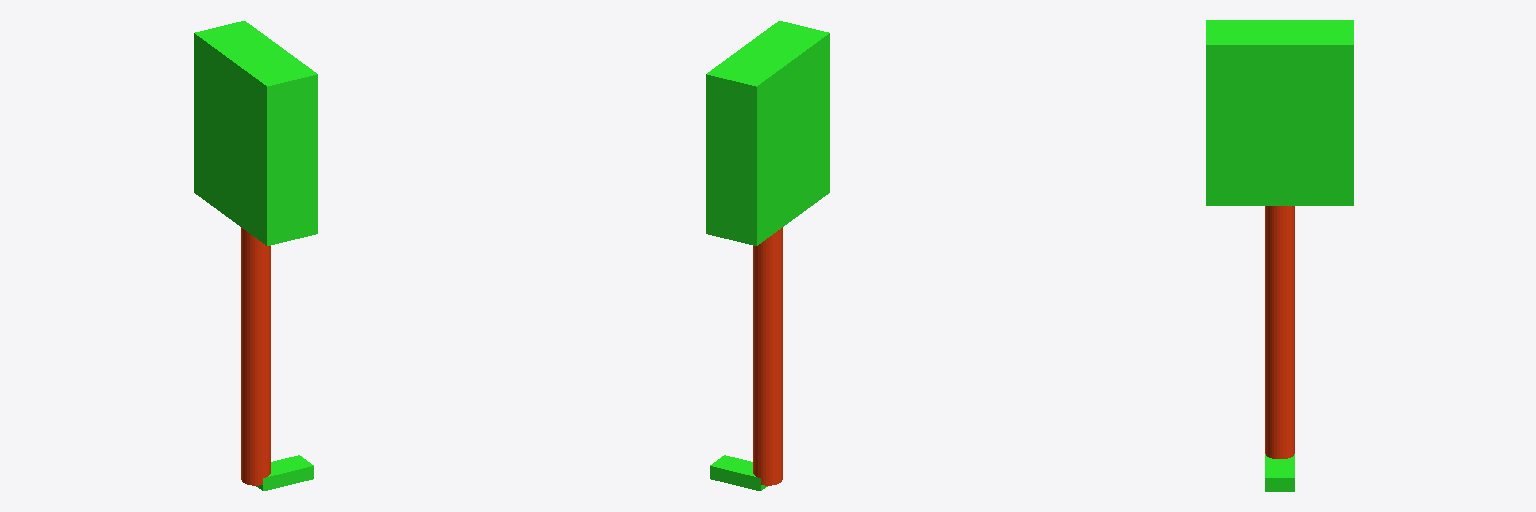
URDF robot description (biped):
<?xml version="1.0"?>
<robot name="biped">

    <!-- Define the body parameters -->
    <link name="base_link">
        <visual>
            <origin xyz="0 0 0" rpy="0 0 0"/>
            <geometry>
                <box size="0.2 0.5 0.6" />
            </geometry>
            <material name="green">
                <color rgba="0.2 1 0.2 1"/>
            </material>
        </visual>
        <collision>
            <origin xyz="0 0 0" rpy="0 0 0"/>
            <geometry>
                <box size="0.2 0.5 0.6" />
            </geometry>
        </collision>
        <inertial>
            <origin xyz="0 0 0" rpy="0 0 0"/>
            <mass value="0.001" />
            <inertia ixx="2.26" ixy="0.0" ixz="0.0" iyy="6.26" iyz="0.0" izz="8.5" />
        </inertial>
    </link>

    <joint name="toss_joint_1" type="revolute"> 
        <origin xyz="0 0 -0.3" rpy="0 0 0"/>
        <parent link="base_link"/>
        <child link="thigh_link_1"/>
        <axis xyz="0 -1 0"/>
        <limit lower="-1.047" upper="1.571" velocity="100" effort="100"/> 
    </joint>

    <link name="thigh_link_1">
        <visual>
            <origin xyz="0 0 -0.25" rpy="0 0 0"/>
            <geometry>                
                <cylinder length="0.5" radius="0.05" />
            </geometry>
            <material name="orange">
                <color rgba="1 0.3 0.1 1"/>
            </material>
        </visual>
        <collision>
            <origin xyz="0 0 -0.25" rpy="0 0 0"/>
            <geometry>
                <cylinder length="0.5" radius="0.05" />
            </geometry>
        </collision>
        <inertial>
            <origin xyz="0 0 -0.25" rpy="0 0 0"/>
            <mass value="10.0" />
            <inertia ixx="0.021875" ixy="0.0" ixz="0.0" iyy="0.021875" iyz="0.0" izz="0.0125" />
        </inertial>
    </link>

    <joint name="toss_joint_2" type="revolute"> 
        <origin xyz="0 0 -0.3" rpy="0 0 0"/>
        <parent link="base_link"/>
        <child link="thigh_link_2"/>
        <axis xyz="0 -1 0"/>
        <limit lower="-1.047" upper="1.571" velocity="100" effort="100"/> 
    </joint>

    <link name="thigh_link_2">
        <visual>
            <origin xyz="0 0 -0.25" rpy="0 0 0"/>
            <geometry>                
                <cylinder length="0.5" radius="0.05" />
            </geometry>
            <material name="blue">
                <color rgba="1 0.3 0.1 1"/>
            </material>
        </visual>
        <collision>
            <origin xyz="0 0 -0.25" rpy="0 0 0"/>
            <geometry>
                <cylinder length="0.5" radius="0.05" />
            </geometry>
        </collision>
        <inertial>
            <origin xyz="0 0 -0.25" rpy="0 0 0"/>
            <mass value="10.0" />
            <inertia ixx="0.021875" ixy="0.0" ixz="0.0" iyy="0.021875" iyz="0.0" izz="0.0125" />
        </inertial>
    </link>

    <joint name="knee_joint_1" type="revolute"> 
        <origin xyz="0 0 -0.5" rpy="0 0 0"/>
        <parent link="thigh_link_1"/>
        <child link="calf_link_1"/>
        <axis xyz="0 -1 0"/>
        <limit lower="-1.571" upper="0" velocity="100" effort="100"/> 
    </joint>

    <link name="calf_link_1">
        <visual>
            <origin xyz="0 0 -0.25" rpy="0 0 0"/>
            <geometry>                
                <cylinder length="0.5" radius="0.05" />
            </geometry>
            <material name="orange">
                <color rgba="1 0.3 0.1 1"/>
            </material>
        </visual>
        <collision>
            <origin xyz="0 0 -0.25" rpy="0 0 0"/>
            <geometry>
                <cylinder length="0.5" radius="0.05" />
            </geometry>
        </collision>
        <inertial>
            <origin xyz="0 0 -0.25" rpy="0 0 0"/>
            <mass value="10.0" />
            <inertia ixx="0.021875" ixy="0.0" ixz="0.0" iyy="0.021875" iyz="0.0" izz="0.0125" />
        </inertial>
    </link>

    <joint name="knee_joint_2" type="revolute"> 
        <origin xyz="0 0 -0.5" rpy="0 0 0"/>
        <parent link="thigh_link_2"/>
        <child link="calf_link_2"/>
        <axis xyz="0 -1 0"/>
        <limit lower="-1.571" upper="0" velocity="100" effort="100"/> 
    </joint>

    <link name="calf_link_2">
        <visual>
            <origin xyz="0 0 -0.25" rpy="0 0 0"/>
            <geometry>                
                <cylinder length="0.5" radius="0.05" />
            </geometry>
            <material name="blue">
                <color rgba="1 0.3 0.1 1"/>
            </material>
        </visual>
        <collision>
            <origin xyz="0 0 -0.25" rpy="0 0 0"/>
            <geometry>
                <cylinder length="0.5" radius="0.05" />
            </geometry>
        </collision>
        <inertial>
            <origin xyz="0 0 -0.25" rpy="0 0 0"/>
            <mass value="10.0" />
            <inertia ixx="0.021875" ixy="0.0" ixz="0.0" iyy="0.021875" iyz="0.0" izz="0.0125" />
        </inertial>
    </link>

    <joint name="ankle_joint_1" type="fixed"> 
        <origin xyz="0 0 -0.5" rpy="0 0 0"/>
        <parent link="calf_link_1"/>
        <child link="foot_link_1"/>
    </joint>

    <link name="foot_link_1">
        <visual>
            <origin xyz="0.1 0 0" rpy="0 0 0"/>
            <geometry>
                <box size="0.2 0.1 0.05" />
            </geometry>
            <material name="green">
                <color rgba="0.2 1 0.2 1"/>
            </material>
        </visual>
        <collision>
            <origin xyz="0.1 0 0" rpy="0 0 0"/>
            <geometry>
                <box size="0.2 0.1 0.05" />
            </geometry>
        </collision>
        <inertial>
            <origin xyz="0.1 0 0" rpy="0 0 0"/>
            <mass value="2" />
            <inertia ixx="2.26" ixy="0.0" ixz="0.0" iyy="6.26" iyz="0.0" izz="8.5" />
        </inertial>
    </link>

    <joint name="ankle_joint_2" type="fixed"> 
        <origin xyz="0 0 -0.5" rpy="0 0 0"/>
        <parent link="calf_link_2"/>
        <child link="foot_link_2"/>
    </joint>

    <link name="foot_link_2">
        <visual>
            <origin xyz="0.1 0 0" rpy="0 0 0"/>
            <geometry>
                <box size="0.2 0.1 0.05" />
            </geometry>
            <material name="green">
                <color rgba="0.2 1 0.2 1"/>
            </material>
        </visual>
        <collision>
            <origin xyz="0.1 0 0" rpy="0 0 0"/>
            <geometry>
                <box size="0.2 0.1 0.05" />
            </geometry>
        </collision>
        <inertial>
            <origin xyz="0.1 0 0" rpy="0 0 0"/>
            <mass value="2" />
            <inertia ixx="2.26" ixy="0.0" ixz="0.0" iyy="6.26" iyz="0.0" izz="8.5" />
        </inertial>
    </link>


</robot>

--- Facts derived from the render (not from the file) ---
3 views of the same robot in one strip: view 1: azimuth 30°, elevation 25°; view 2: azimuth 150°, elevation 25°; view 3: azimuth 270°, elevation 25° (orthographic).
Model biped with 7 links and 6 joints (4 revolute, 2 fixed), rooted at base_link, posed all joints at 0.
Visible links, largest first — view 1: base_link, calf_link_1, thigh_link_1, foot_link_1; view 2: base_link, calf_link_1, thigh_link_1, foot_link_1; view 3: base_link, calf_link_1, thigh_link_1, foot_link_1.
Link boxes in pixels (x1,y1,x2,y2): base_link: [194, 21, 317, 245]; calf_link_1: [241, 347, 270, 485]; thigh_link_1: [241, 227, 270, 352]; foot_link_1: [256, 455, 313, 490]; base_link: [706, 21, 829, 245]; calf_link_1: [753, 347, 782, 485]; thigh_link_1: [753, 227, 782, 352]; foot_link_1: [710, 455, 767, 490]; base_link: [1206, 20, 1353, 205]; calf_link_1: [1265, 327, 1294, 458]; thigh_link_1: [1265, 206, 1294, 332]; foot_link_1: [1265, 454, 1294, 491].
Bounding box of the posed robot: 0.3 × 0.5 × 1.62 m (x, y, z).
Geometry: primitives only (box / cylinder / sphere), no mesh files.